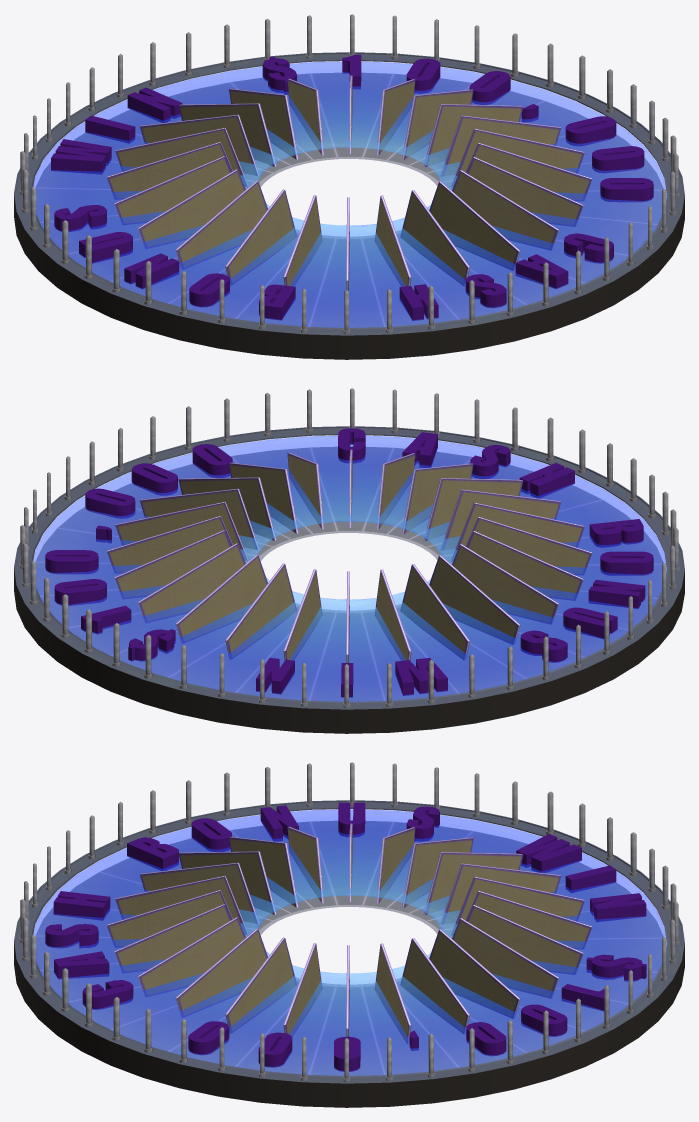
Rendered from wheel_bonus_rig.glb.
The picture shows the model from 3 angles, top to bottom: view 1: azimuth 30°, elevation 25°; view 2: azimuth 150°, elevation 25°; view 3: azimuth 270°, elevation 25°; orthographic projection.
Parts seen in each view (by area): view 1: bonus_blueShape, bonus_wheelShape:4, bonus_linesShape, bonus_wheelShape:2, bonus_wheelShape:5, bonus_wheelShape:3, bonus_wheelShape:1; view 2: bonus_blueShape, bonus_wheelShape:4, bonus_linesShape, bonus_wheelShape:2, bonus_wheelShape:5, bonus_wheelShape:3, bonus_wheelShape:1; view 3: bonus_blueShape, bonus_wheelShape:4, bonus_linesShape, bonus_wheelShape:2, bonus_wheelShape:5, bonus_wheelShape:3, bonus_wheelShape:1.
Part boxes in pixels (x1,y1,x2,y2): bonus_blueShape: (33,61,666,327); bonus_wheelShape:4: (107,75,591,291); bonus_linesShape: (35,72,663,327); bonus_wheelShape:2: (51,54,653,320); bonus_wheelShape:5: (14,194,684,359); bonus_wheelShape:3: (14,52,684,335); bonus_wheelShape:1: (19,14,679,334); bonus_blueShape: (33,435,666,701); bonus_wheelShape:4: (107,449,591,662); bonus_linesShape: (35,446,663,701); bonus_wheelShape:2: (45,428,653,697); bonus_wheelShape:5: (14,568,684,733); bonus_wheelShape:3: (14,426,684,709); bonus_wheelShape:1: (19,388,679,708); bonus_blueShape: (33,809,666,1075); bonus_wheelShape:4: (107,823,591,1043); bonus_linesShape: (35,820,663,1075); bonus_wheelShape:2: (45,802,646,1071); bonus_wheelShape:5: (14,942,684,1107); bonus_wheelShape:3: (14,800,684,1083); bonus_wheelShape:1: (19,762,679,1082).
Size of what is drawn, in the model's own units: 123 by 15.27 by 123.
Materials: 7 (7 with a texture image).
